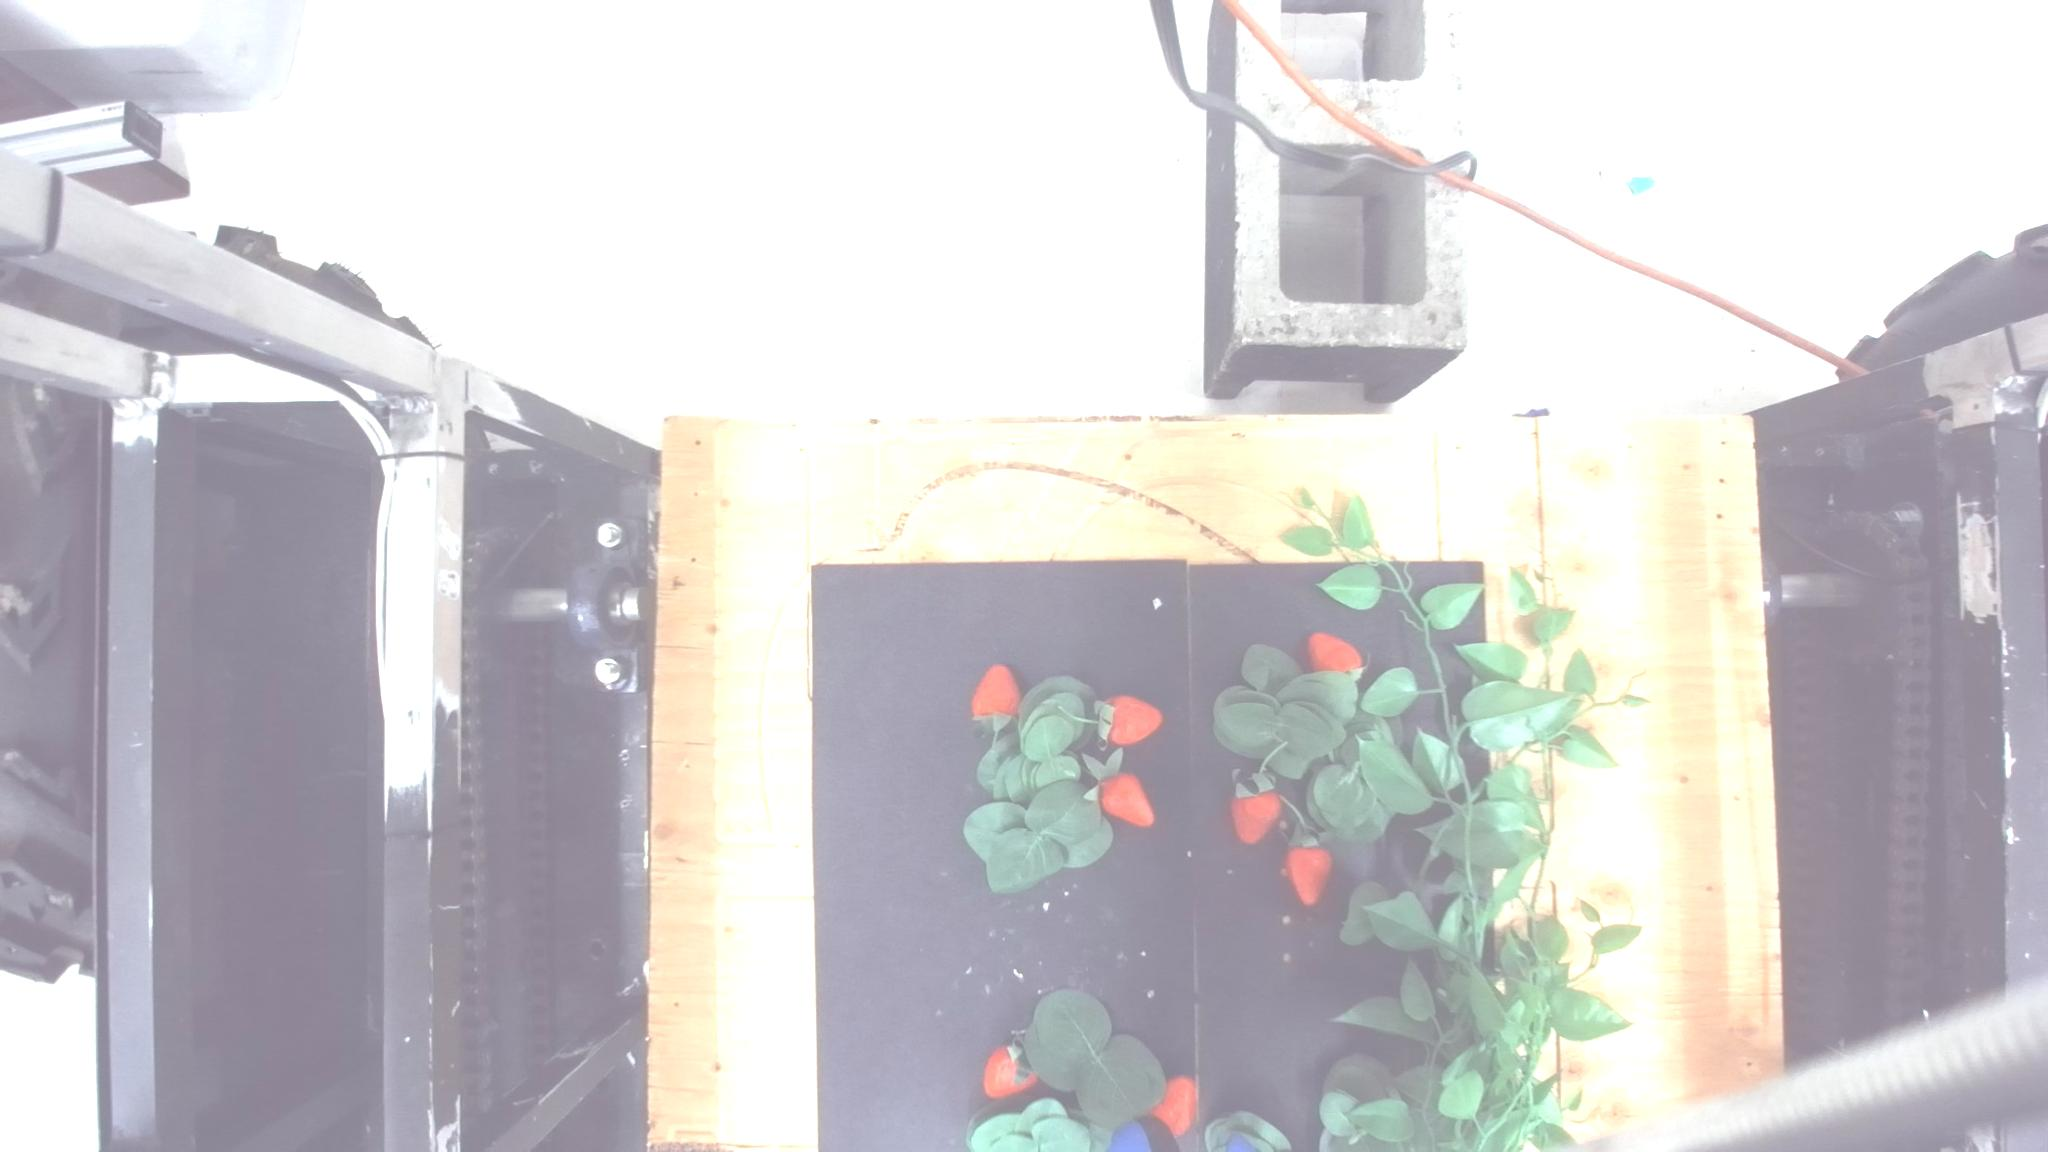strawberry: (1229, 771, 1281, 844), (1280, 837, 1332, 906), (982, 1035, 1038, 1099), (1097, 693, 1163, 747), (1096, 772, 1155, 828), (1146, 1076, 1197, 1138), (969, 663, 1018, 724), (1307, 630, 1366, 678)
